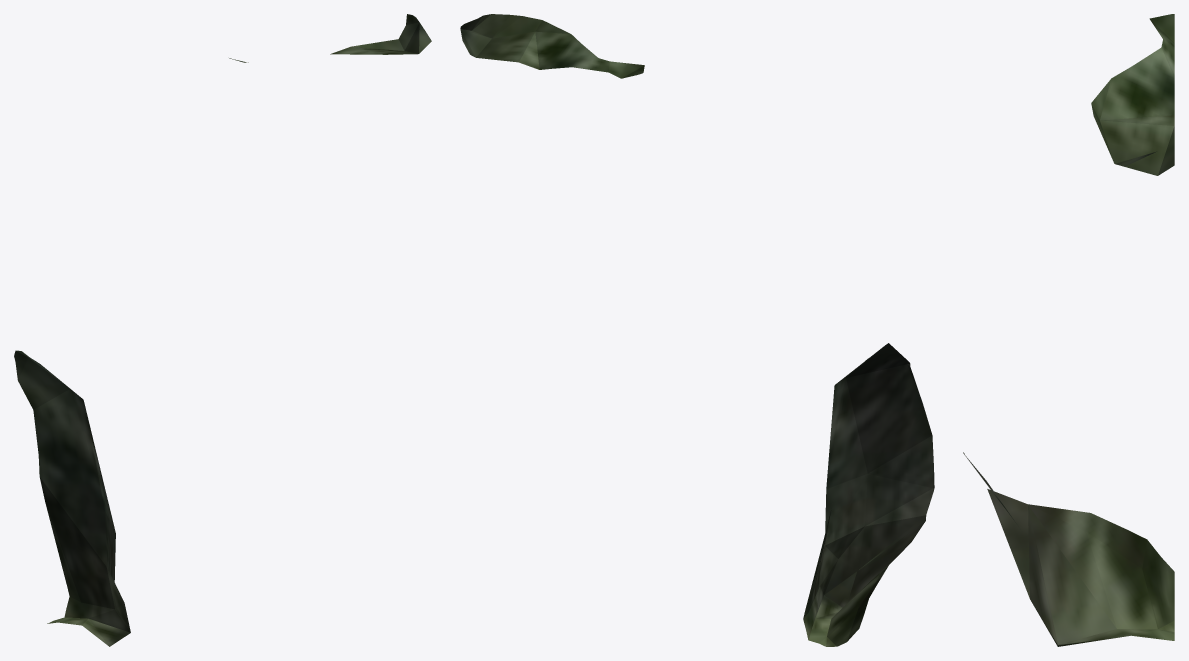
3 renders of one model, left to right at view 1: azimuth 30°, elevation 25°; view 2: azimuth 150°, elevation 25°; view 3: azimuth 270°, elevation 25°, orthographic. The views are drawn at different scales.
Bounding box in the file's own units: 3.08 × 3.84 × 0.9897.
1 material, 1 textured.
